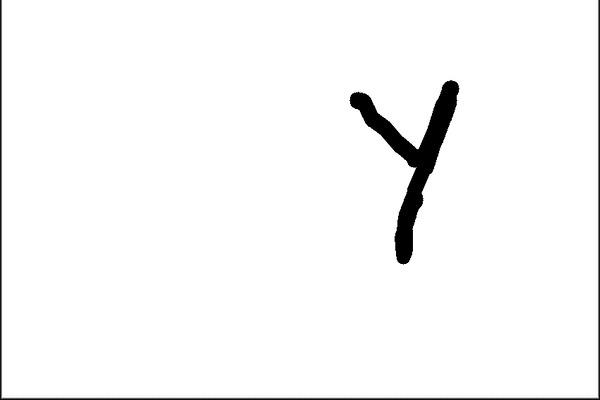Y: (337, 72, 472, 270)
